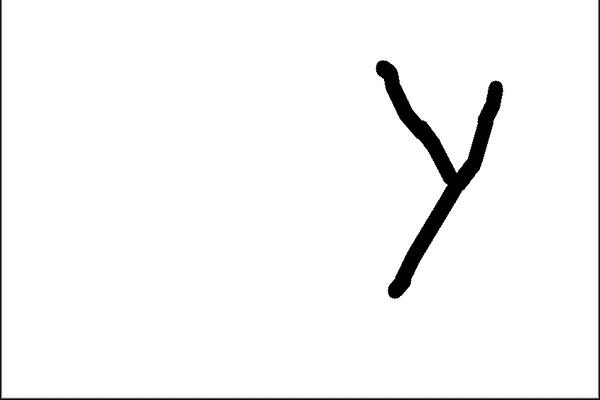Y: (361, 53, 520, 304)
